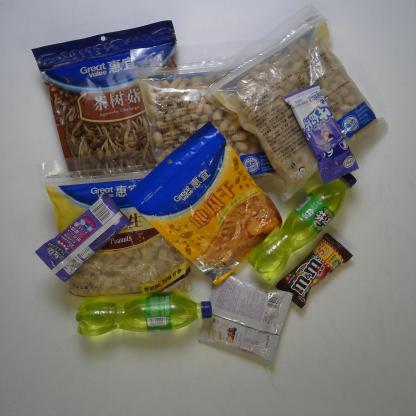Candy: (271, 82, 376, 181), (35, 196, 126, 287)
Chocolate: (274, 232, 351, 310)
Dried Food: (211, 7, 384, 202), (29, 19, 194, 218), (38, 151, 194, 300), (126, 38, 276, 186)
Dried Fruit: (129, 122, 284, 287)
Drink: (247, 175, 361, 288), (65, 289, 226, 349)
Instant Drink: (193, 268, 292, 368)
